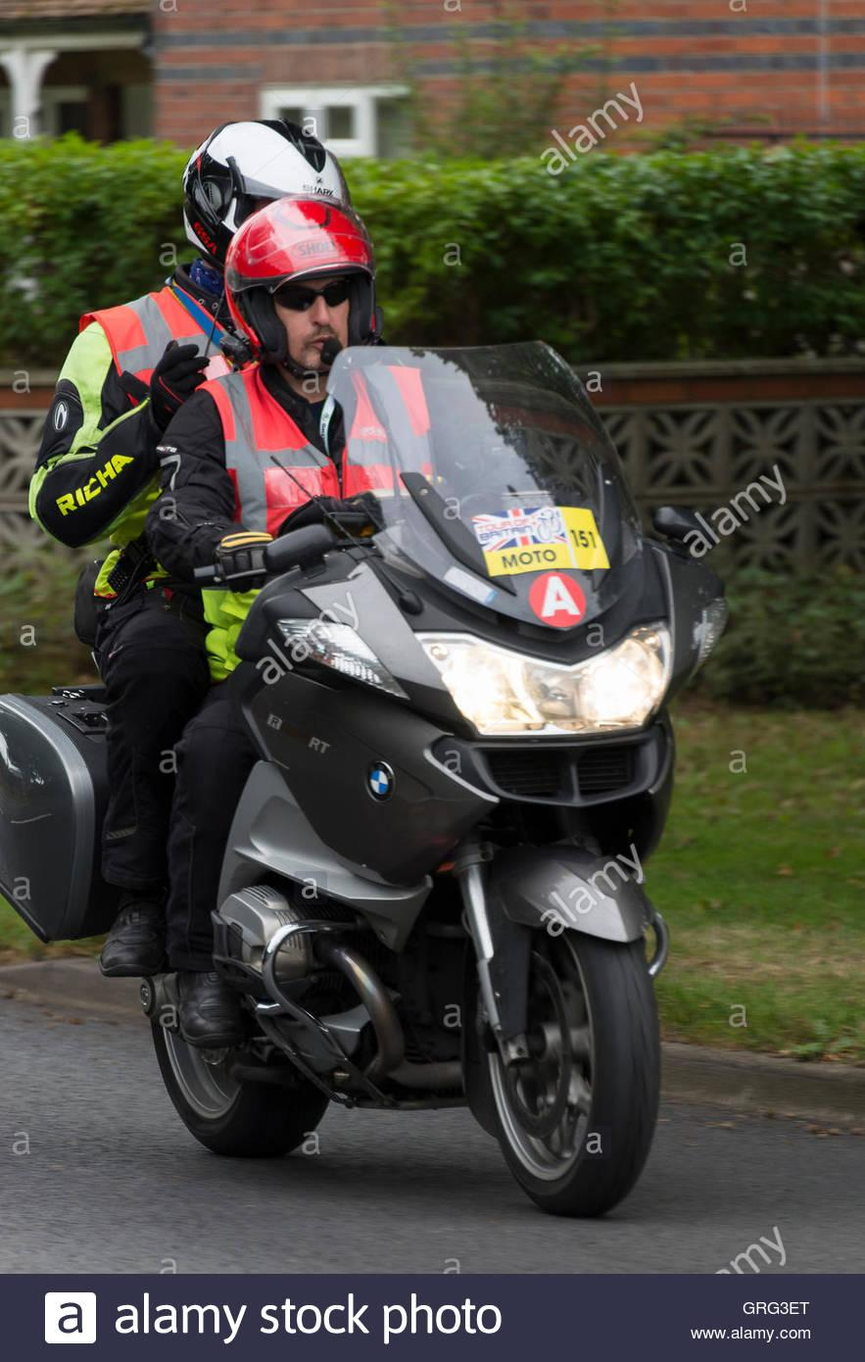helmet: (193, 181, 404, 380), (152, 100, 347, 238)
